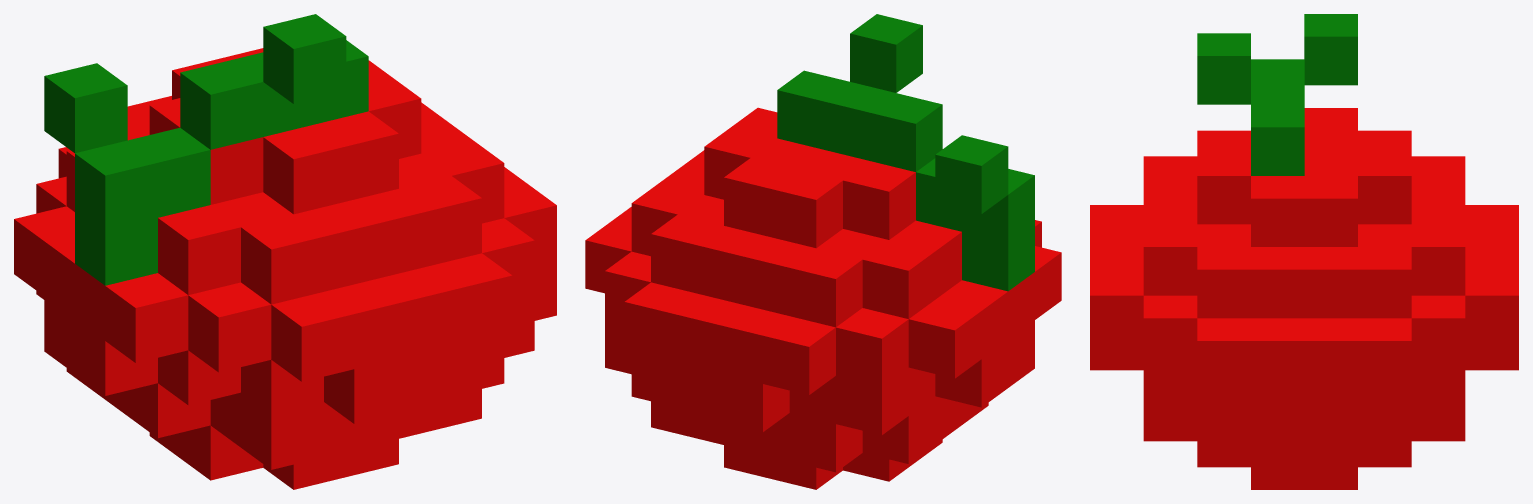
File: plant_tomato_f3.vox.obj
3 views of the same model, side by side, from view 1: azimuth 30°, elevation 25°; view 2: azimuth 150°, elevation 25°; view 3: azimuth 270°, elevation 25° (orthographic). The views are drawn at different scales.
Bounding box in the file's own units: 0.8 × 0.8 × 0.8.
1 material, 1 textured.
